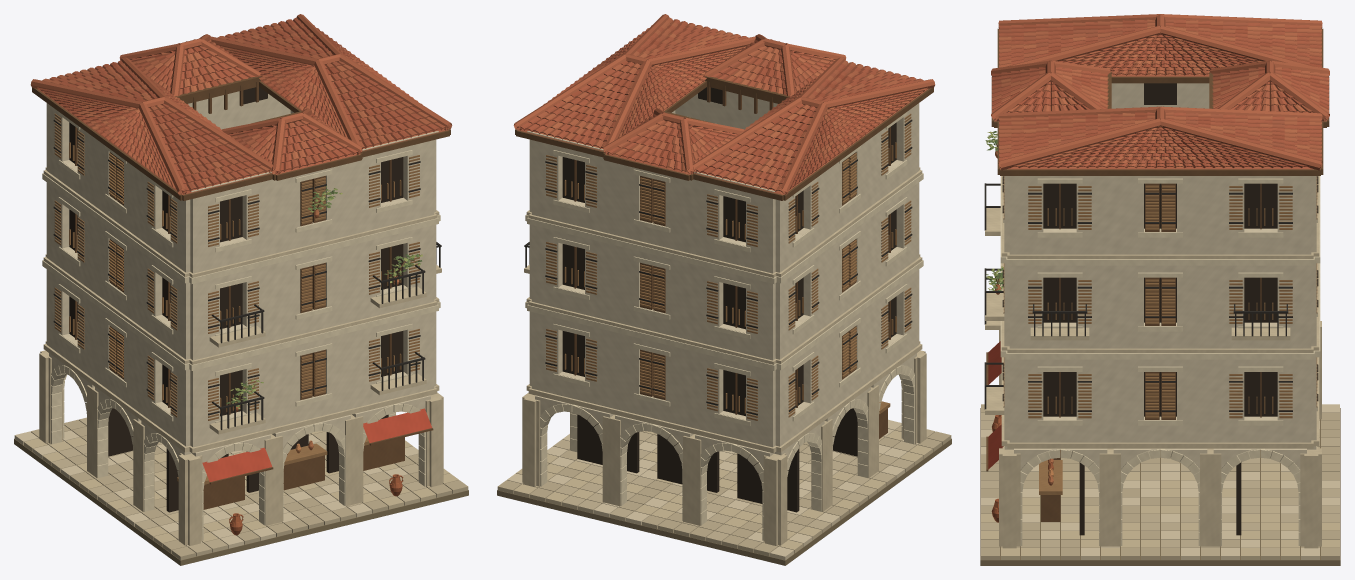
Rendered from insula.glb.
The picture shows the model from 3 angles, left to right: view 1: azimuth 30°, elevation 25°; view 2: azimuth 150°, elevation 25°; view 3: azimuth 270°, elevation 25°; orthographic projection. The views are drawn at different scales.
Visible parts, largest first — view 1: Limewash.002, Limewash.003, Tile_0.002, Tile_1.002, Travertine.003, Limestone_trim.002, Oak_edge.002, Travertine.002, Limestone_trim.003, Oak.002, Interior_shadow.002, Interior_shadow.003 (+15 smaller); view 2: Limewash.002, Limewash.003, Tile_0.002, Tile_1.002, Oak_edge.002, Limestone_trim.002, Travertine.002, Limestone_trim.003, Travertine.003, Interior_shadow.002, Interior_shadow.003, Oak.002 (+14 smaller); view 3: Limewash.002, Limewash.003, Tile_1.002, Tile_0.002, Travertine.003, Interior_shadow.002, Oak_edge.002, Limestone_trim.002, Travertine.002, Limestone_trim.003, Paving_0.002, Paving_1.002 (+15 smaller).
Boxes of the visible parts, x1,y1,x2,y2 form: Limewash.002: (47,91,435,468); Limewash.003: (46,92,436,447); Tile_0.002: (37,17,441,193); Tile_1.002: (30,14,451,195); Travertine.003: (39,167,443,545); Limestone_trim.002: (42,112,439,539); Oak_edge.002: (54,113,419,483); Travertine.002: (39,172,442,544); Limestone_trim.003: (42,112,440,540); Oak.002: (32,75,450,508); Interior_shadow.002: (69,87,402,511); Interior_shadow.003: (69,87,403,512); Limewash.002: (530,91,918,468); Limewash.003: (529,92,919,447); Tile_0.002: (516,19,919,189); Tile_1.002: (514,14,935,195); Oak_edge.002: (546,113,911,420); Limestone_trim.002: (526,112,922,539); Travertine.002: (523,168,926,544); Limestone_trim.003: (525,112,923,540); Travertine.003: (522,167,926,545); Interior_shadow.002: (563,87,896,511); Interior_shadow.003: (562,87,896,512); Oak.002: (515,75,933,437); Limewash.002: (1004,83,1316,469); Limewash.003: (1004,83,1316,442); Tile_1.002: (991,14,1329,170); Tile_0.002: (991,19,1329,167); Travertine.003: (985,176,1321,548); Interior_shadow.002: (1043,83,1277,534); Oak_edge.002: (1003,176,1317,494); Limestone_trim.002: (1001,177,1319,545); Travertine.002: (985,176,1320,544); Limestone_trim.003: (1000,176,1320,545); Paving_0.002: (981,463,1339,559); Paving_1.002: (981,404,1339,559).
Bounding box in the file's own units: 9.2 × 11.94 × 9.2.
Materials: 26 (8 with a texture image).
